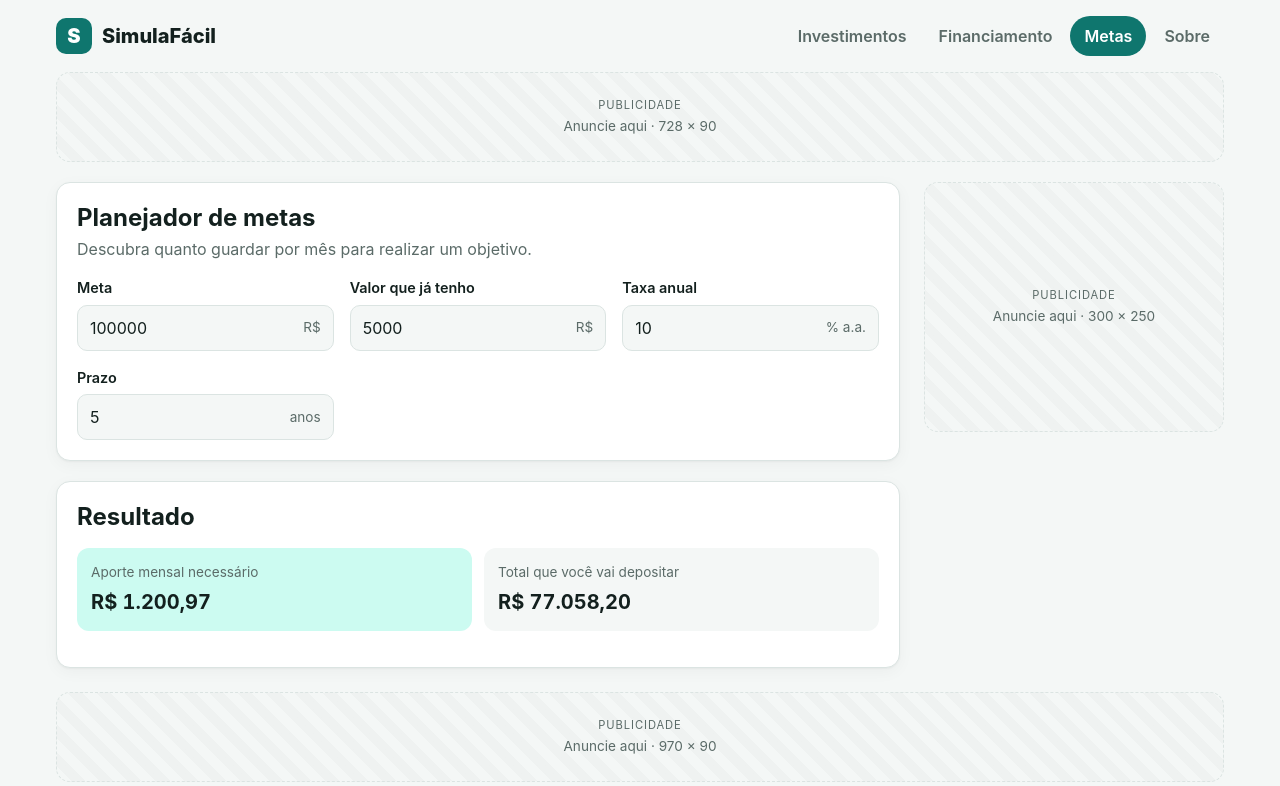
Scenario: Planejador de metas › avisa quando a meta já é atingida sem aportes
This screenshot has width=1280, height=786.
Replace the text in the field labelled "Valor que já tenho" with "200000": (457,328) x1=351 y1=306 x2=564 y2=350
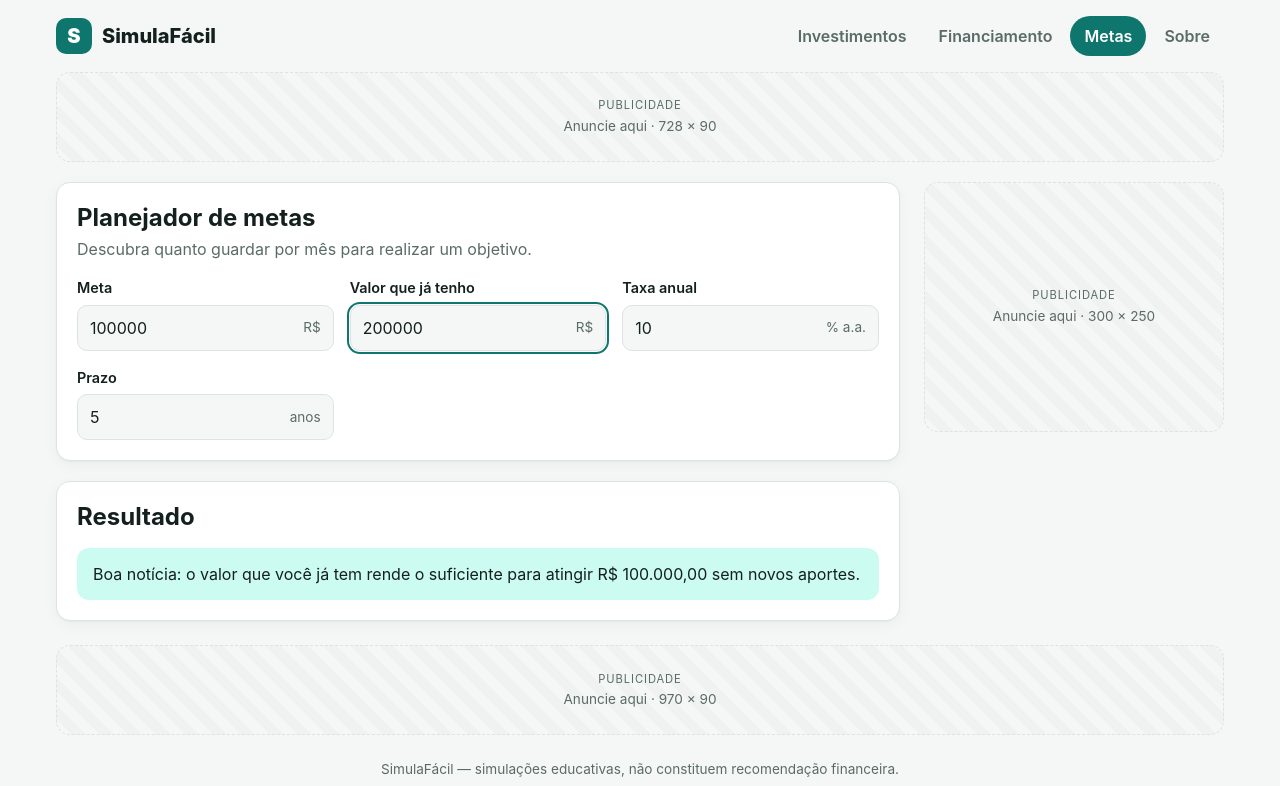
Expected: the text with test id "goal-done" is shown, x1=77 y1=548 x2=879 y2=600
